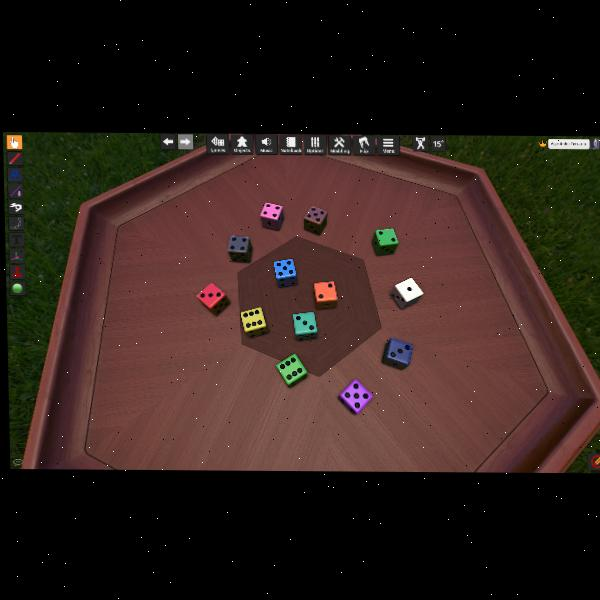d6: (338, 379, 371, 414), (276, 353, 309, 387), (390, 276, 423, 310), (198, 282, 229, 315), (382, 337, 413, 369), (240, 306, 268, 337), (372, 226, 399, 255), (259, 201, 284, 231), (304, 205, 328, 235), (274, 258, 298, 288), (228, 235, 253, 263), (293, 311, 317, 339), (314, 280, 337, 308)
